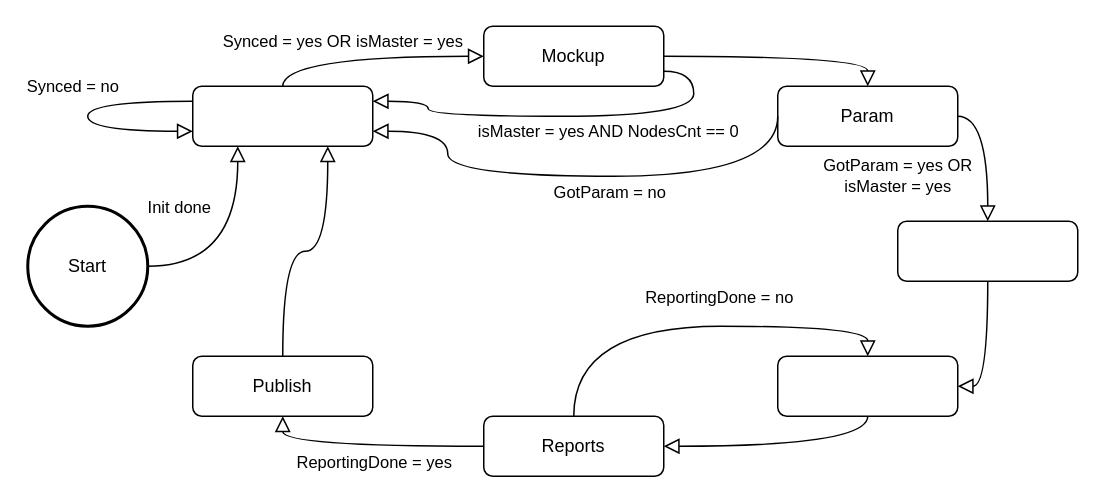
Image size: 1104x503. Some labels were removed from this diagram. The centre of each missing label's shape, as x and y in pixels:
Discovery: point (282, 115)
Packets: point (987, 250)
Reports Req: point (867, 385)
